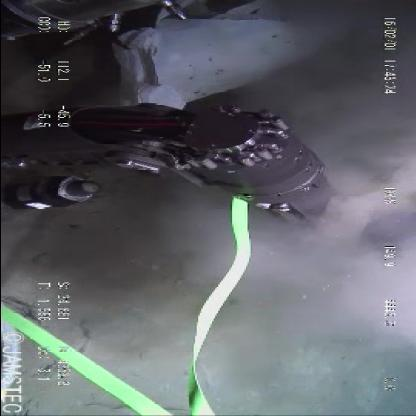Rov: (13, 100, 340, 236)
